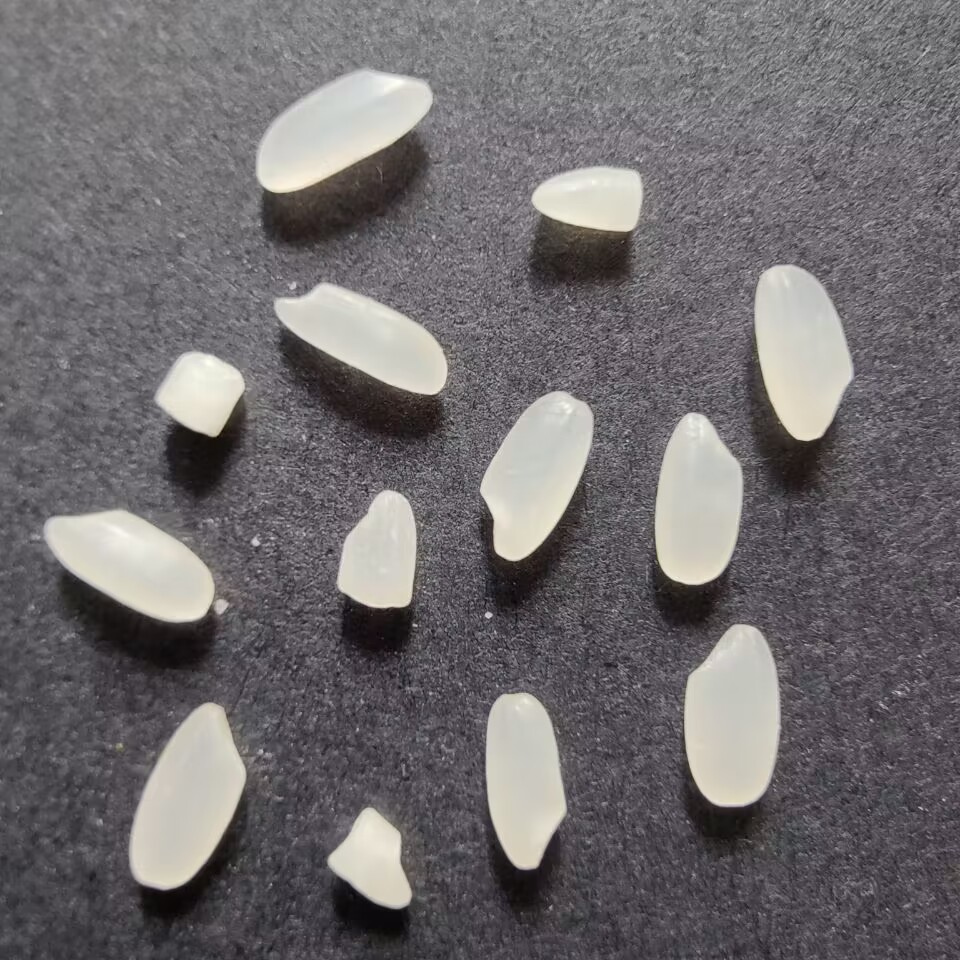broken: (330, 486, 421, 615), (320, 806, 419, 914), (522, 161, 650, 242), (150, 345, 249, 442)
rice: (251, 60, 438, 196), (126, 697, 249, 896), (265, 280, 454, 399), (38, 508, 219, 629), (475, 386, 597, 564), (677, 614, 785, 815), (748, 259, 858, 447), (480, 688, 576, 878), (650, 406, 748, 590)
